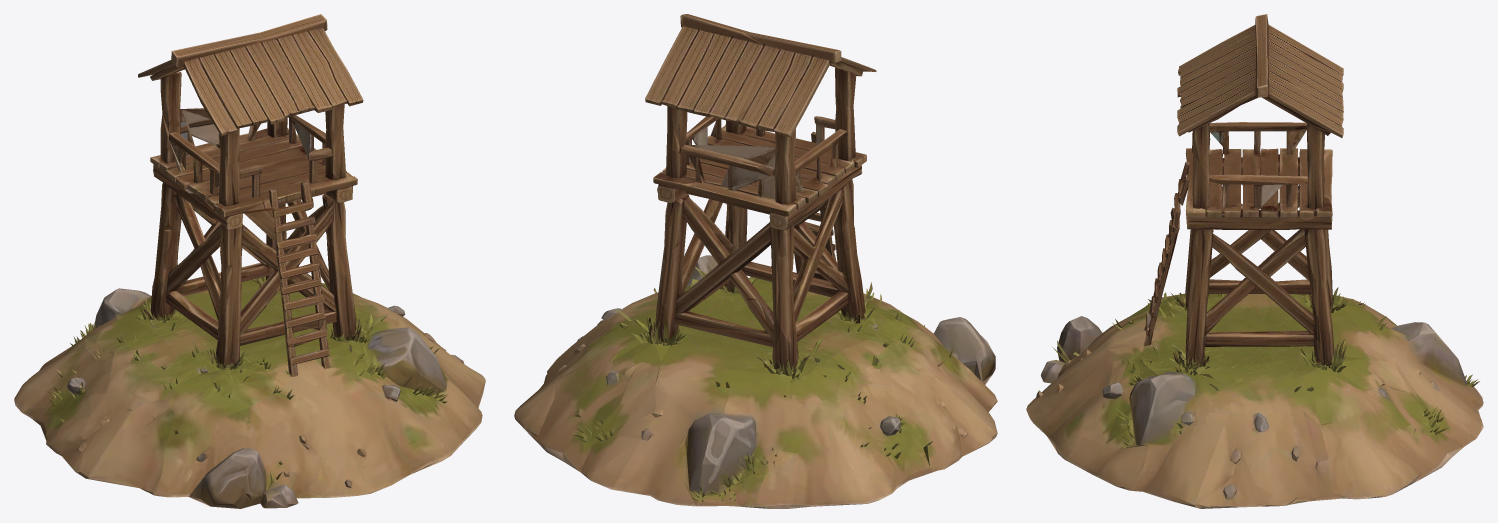
Rendered from watchtower.glb.
The picture shows the model from 3 angles, left to right: view 1: azimuth 30°, elevation 25°; view 2: azimuth 150°, elevation 25°; view 3: azimuth 270°, elevation 25°; orthographic projection. The views are drawn at different scales.
Visible parts, largest first — view 1: watchtower; view 2: watchtower; view 3: watchtower.
Boxes of the visible parts, x1,y1,x2,y2 form: watchtower: (14, 14, 485, 508); watchtower: (514, 14, 997, 508); watchtower: (1026, 14, 1483, 508).
Size of the model in its own units: 13.86 by 12.26 by 14.
1 material, 1 textured.
